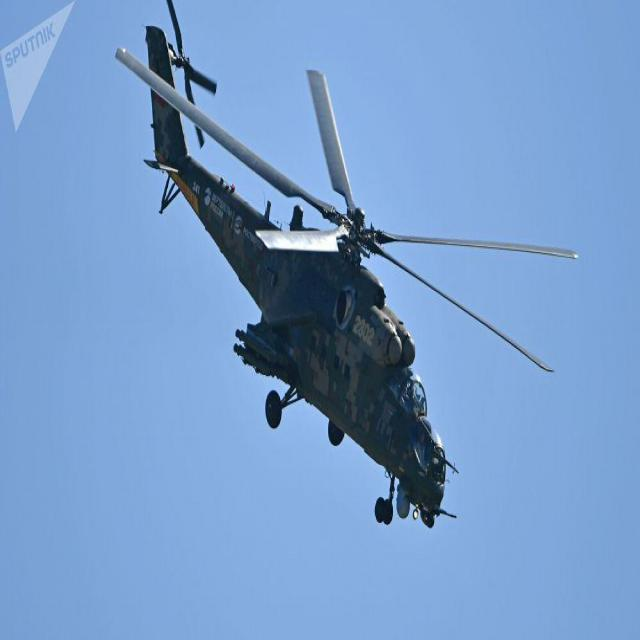MIL_HELO: (119, 0, 584, 556)
